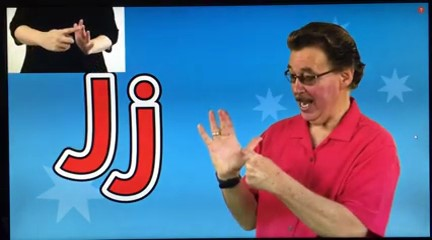J: (187, 103, 296, 196)
